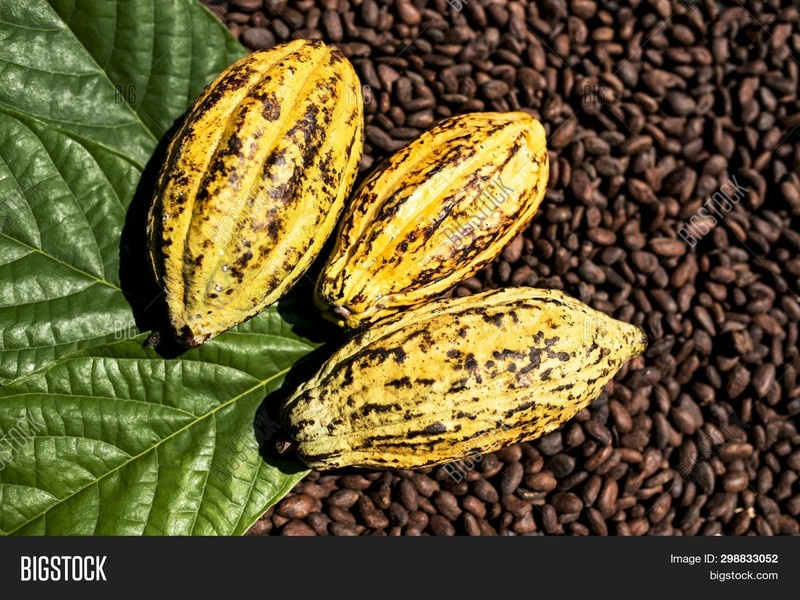Cacaopod: (284, 277, 651, 478), (137, 28, 364, 351), (317, 93, 567, 337)
